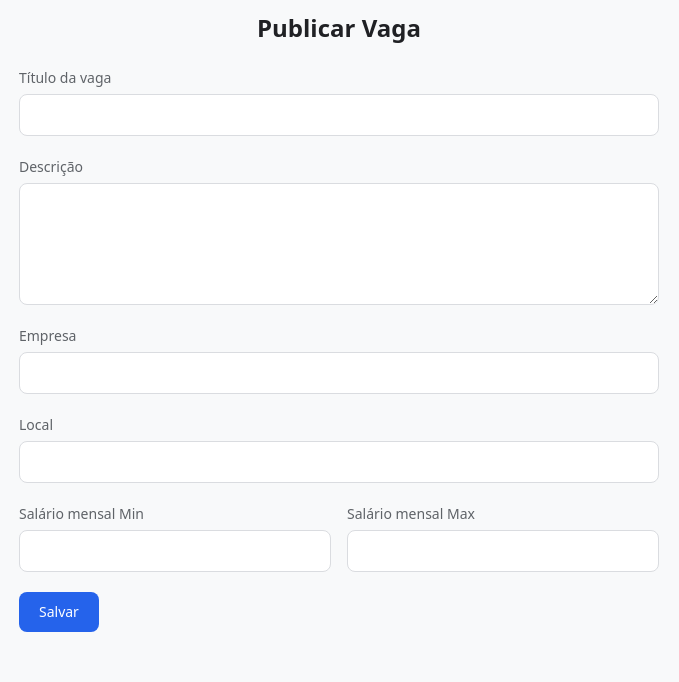
it: JobForm › shows error on failure
Type "Go Dev" into the field labelled "Título da vaga" at (339, 115), box [19,94,659,136]
Type "Build APIs with Go" into the text box labelled "Descrição" at (339, 244), box [19,183,659,305]
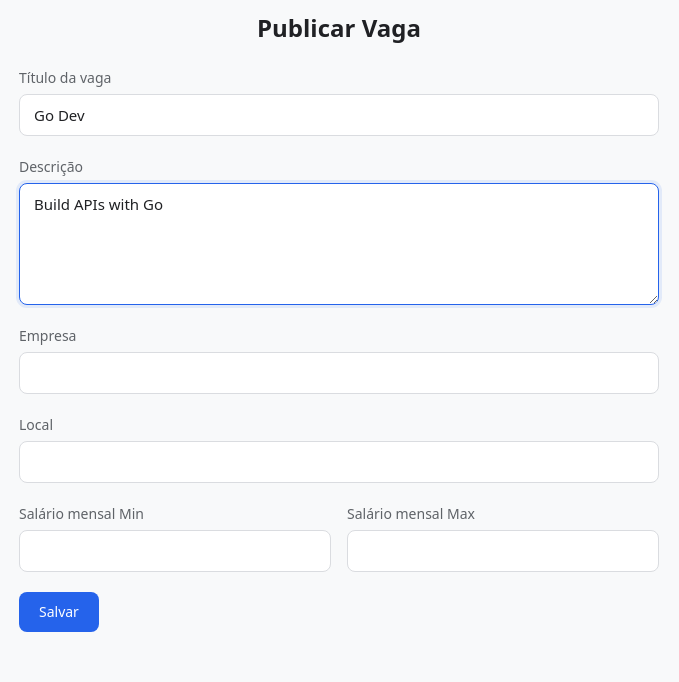
Type "ACME" into the field labelled "Empresa" at (339, 373), box [19,352,659,394]
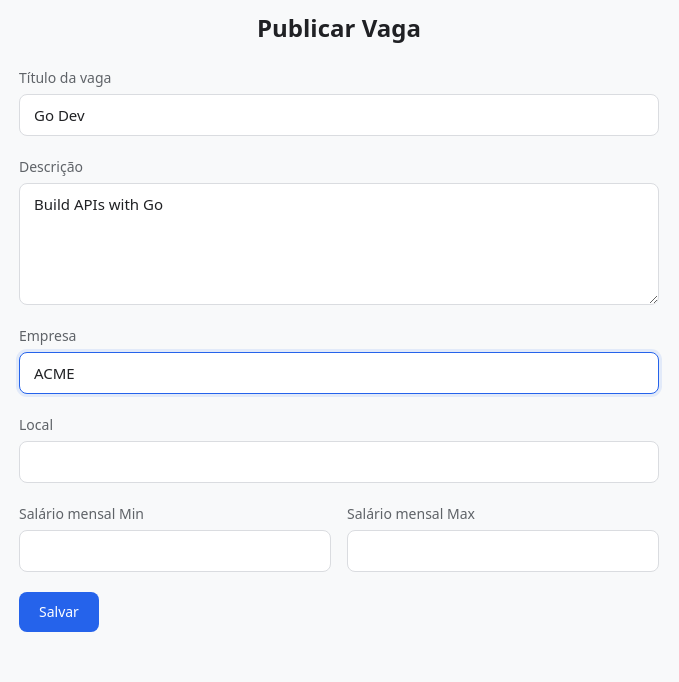
Type "Remote" into the field labelled "Local" at (339, 462), box [19,441,659,483]
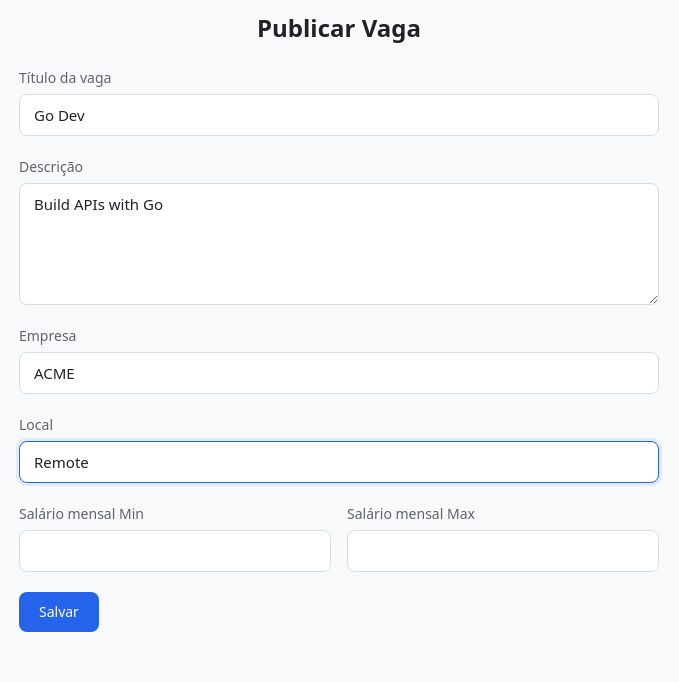
Type "5000" into the number field labelled "Salário mensal Min" at (175, 551), box [19,530,331,572]
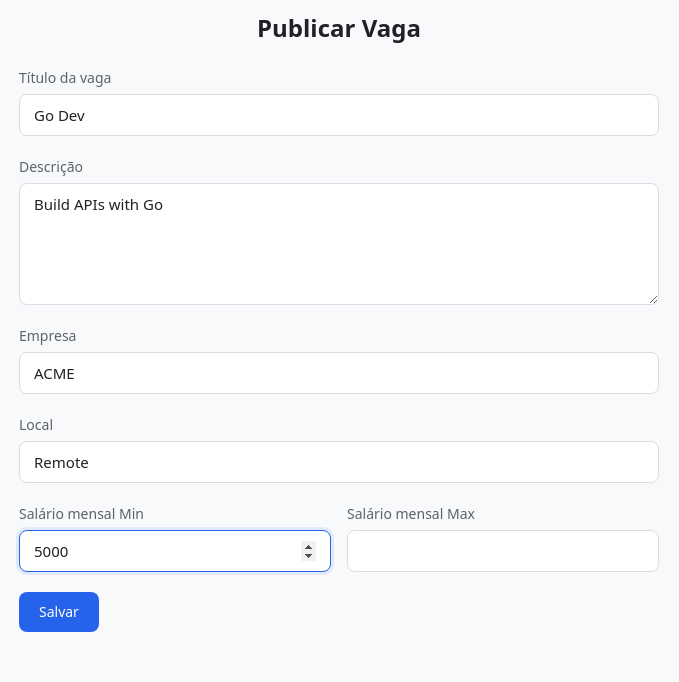
Type "10000" into the number field labelled "Salário mensal Max" at (503, 551), box [347,530,659,572]
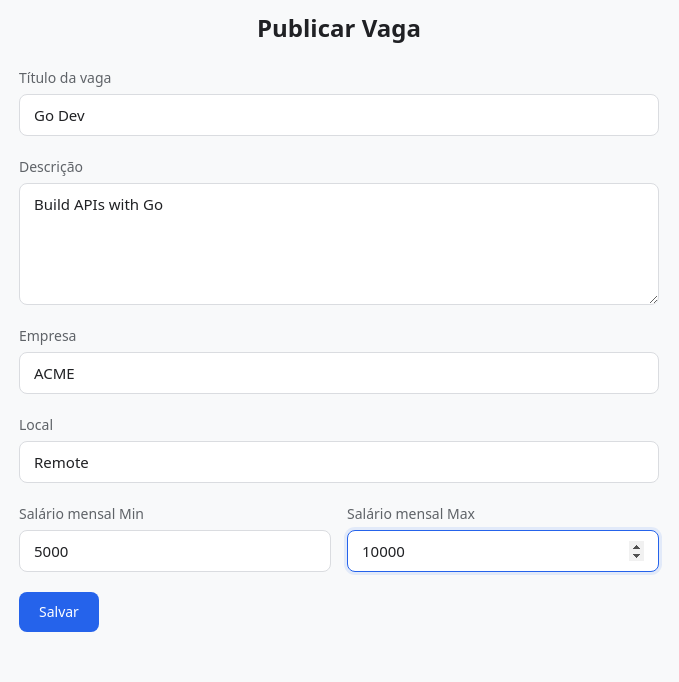
Click the button "Salvar" at (59, 612), box [19,592,99,632]
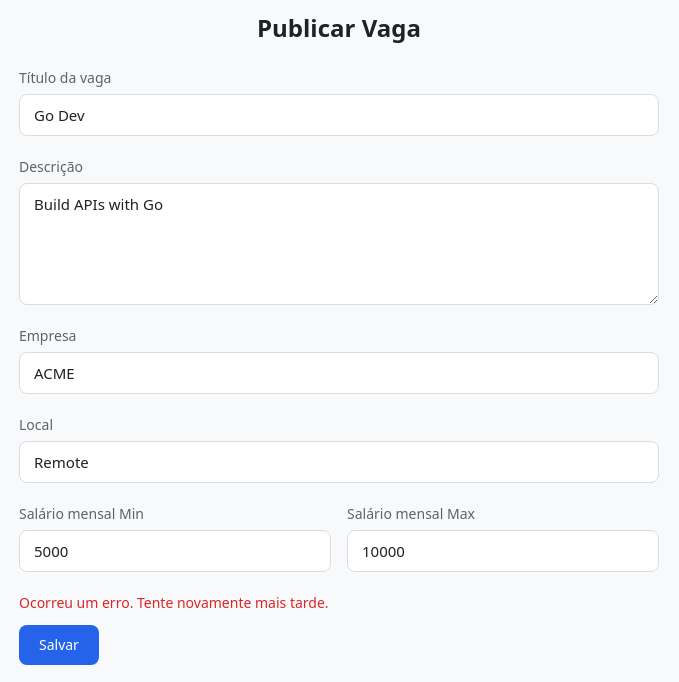
Expected: the text "Ocorreu um erro. Tente novamente mais tarde." is shown, [19,593,329,612]
